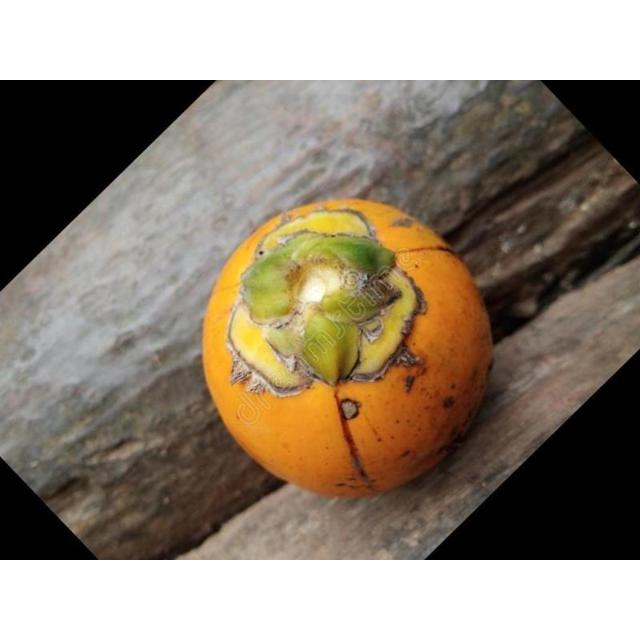good: (200, 199, 494, 499)
